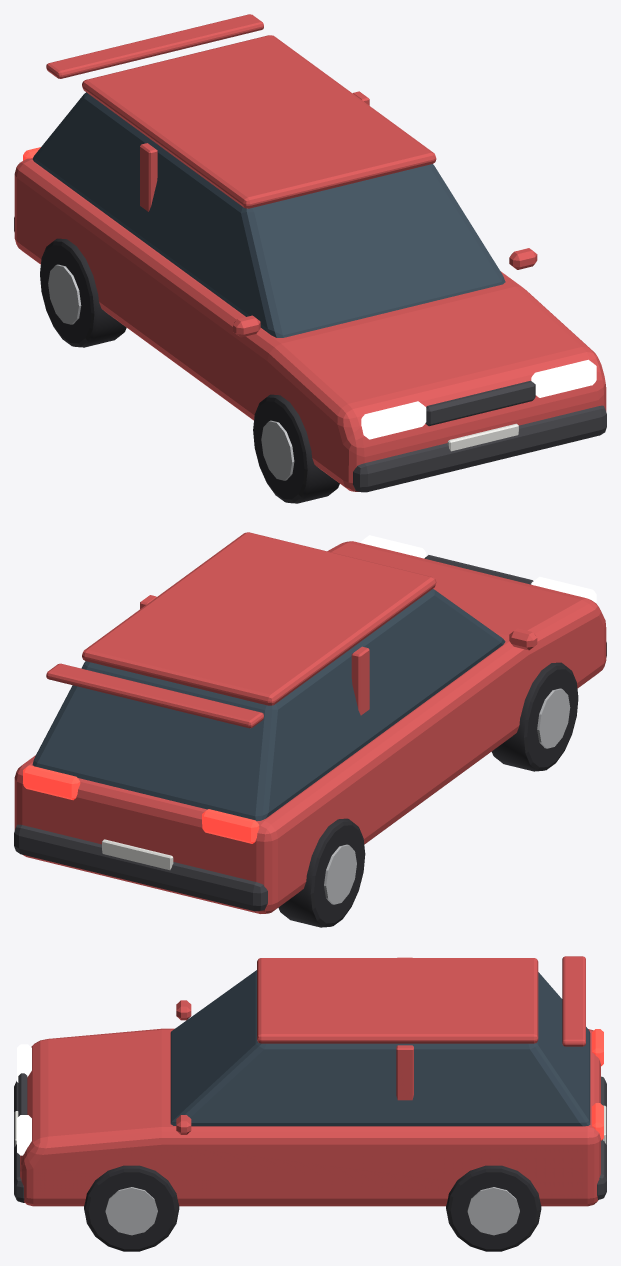
File: hatch.glb
The picture shows the model from 3 angles, top to bottom: view 1: azimuth 30°, elevation 25°; view 2: azimuth 150°, elevation 25°; view 3: azimuth 270°, elevation 25°; orthographic projection. The views are drawn at different scales.
Visible parts, largest first — view 1: Body.003, Cabin.001, Roof.001, BumperF.001, Tyre1L.001, Tyre0L.001, Spoiler, Grille.001, HL-1.001, HL1.001, Rim1L.001, Rim0L.001 (+2 smaller); view 2: Body.003, Cabin.001, Roof.001, BumperR.001, Tyre0L.001, Tyre1L.001, Spoiler, Rim0L.001, Rim1L.001, TL-1.001, TL1.001, PlateR.001 (+4 smaller); view 3: Body.003, Cabin.001, Roof.001, Tyre0R.001, Tyre1R.001, Spoiler, Rim0R.001, Rim1R.001, PillarB1.001, BumperR.001, BumperF.001, HL1.001 (+2 smaller).
Boxes of the visible parts, box(x1,y1,x2,y2) form: Body.003: box(14, 158, 606, 491); Cabin.001: box(32, 92, 505, 337); Roof.001: box(82, 35, 436, 208); BumperF.001: box(353, 405, 606, 492); Tyre1L.001: box(40, 238, 126, 347); Tyre0L.001: box(253, 394, 339, 503); Spoiler: box(46, 14, 263, 78); Grille.001: box(425, 380, 535, 426); HL-1.001: box(361, 401, 426, 439); HL1.001: box(531, 359, 596, 397); Rim1L.001: box(48, 264, 81, 324); Rim0L.001: box(261, 420, 294, 480); Body.003: box(14, 541, 606, 913); Cabin.001: box(32, 589, 505, 821); Roof.001: box(82, 532, 436, 705); BumperR.001: box(14, 824, 267, 911); Tyre0L.001: box(491, 662, 578, 771); Tyre1L.001: box(278, 818, 365, 927); Spoiler: box(46, 663, 263, 728); Rim0L.001: box(537, 688, 570, 748); Rim1L.001: box(324, 844, 356, 904); TL-1.001: box(202, 809, 259, 843); TL1.001: box(23, 765, 80, 800); PlateR.001: box(102, 839, 173, 870); Body.003: box(20, 1028, 600, 1206); Cabin.001: box(170, 970, 590, 1126); Roof.001: box(257, 958, 538, 1043); Tyre0R.001: box(84, 1165, 179, 1251); Tyre1R.001: box(446, 1165, 541, 1251); Spoiler: box(562, 956, 585, 1046); Rim0R.001: box(105, 1187, 157, 1235); Rim1R.001: box(467, 1187, 519, 1235); PillarB1.001: box(396, 1045, 413, 1100); BumperR.001: box(597, 1076, 606, 1199); BumperF.001: box(14, 1081, 24, 1202); HL1.001: box(17, 1115, 31, 1155).
Bounding box in the file's own units: 1.98 × 1.49 × 3.98.
